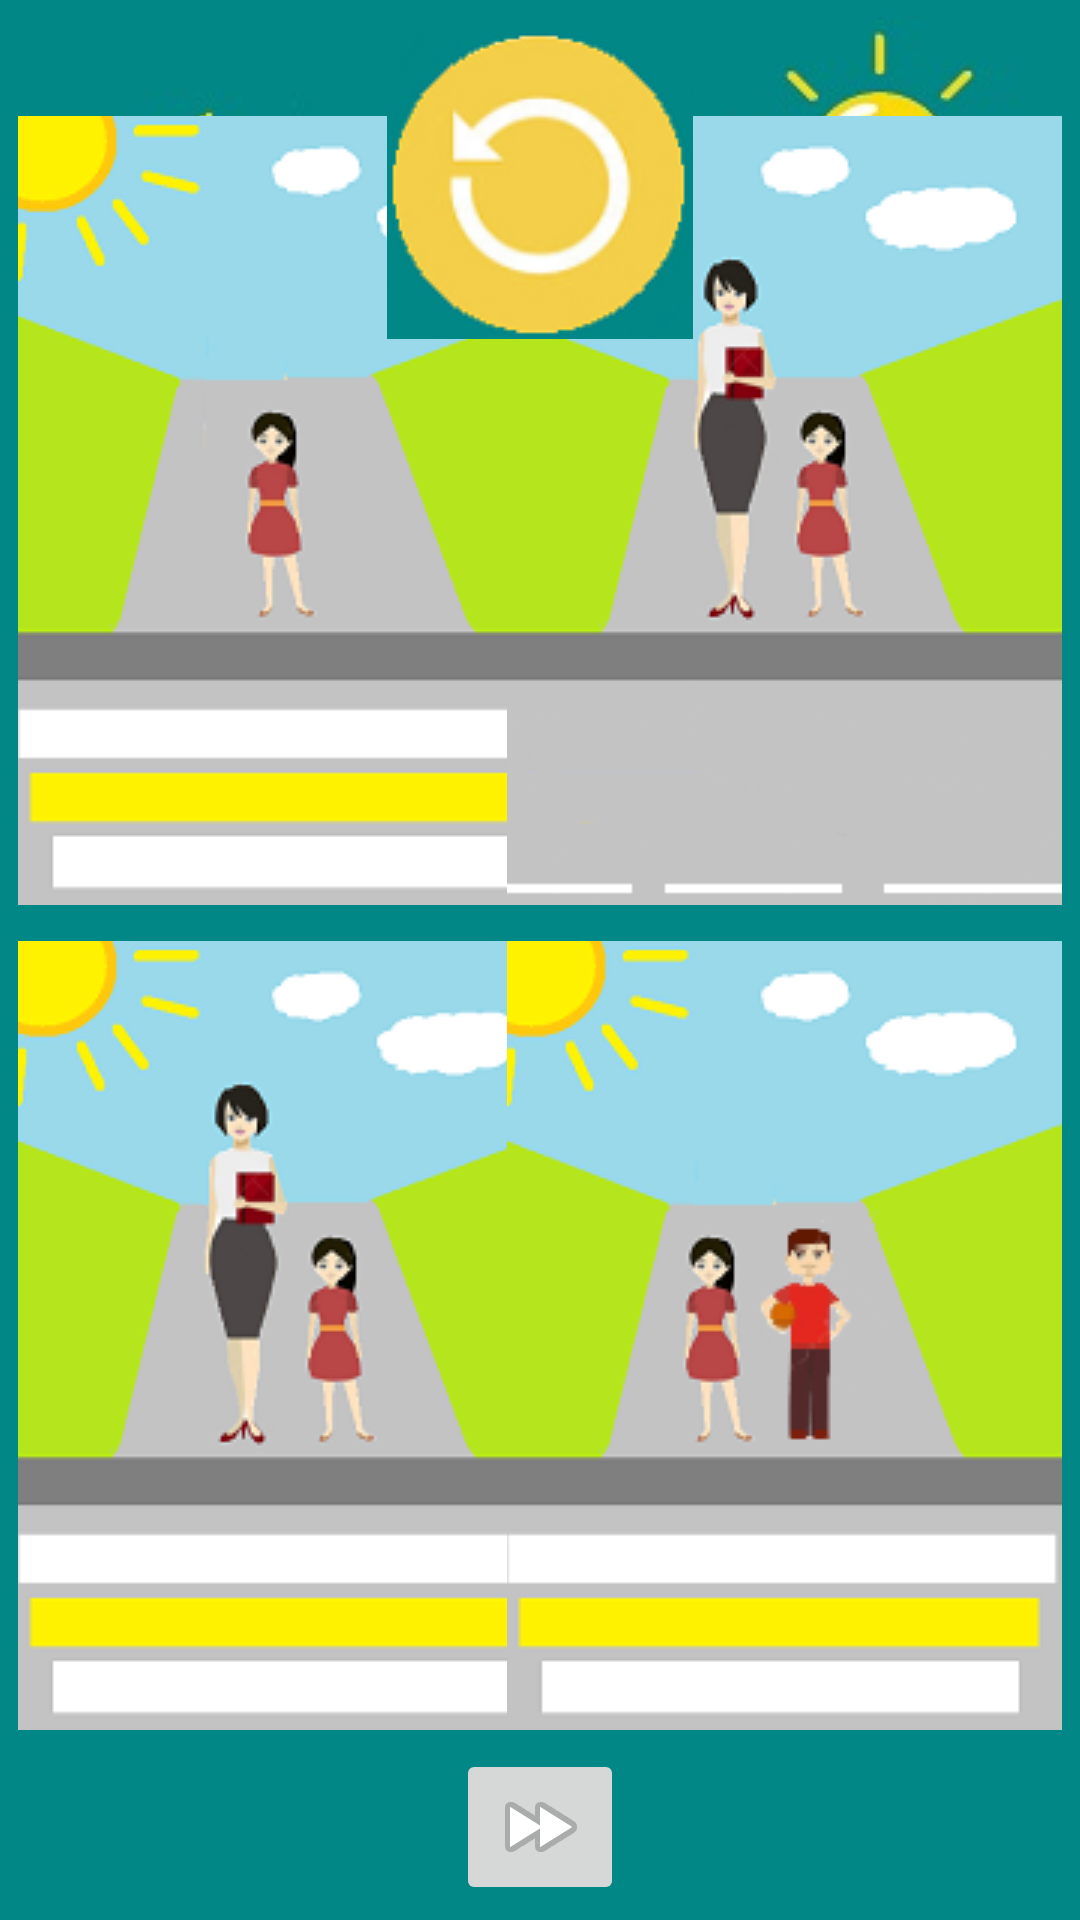

Named icons in this screenshot (1080px x 1920px) and their bounding boxes, (x1,y1,x2,y2):
replay ready: (392,35,685,334)
